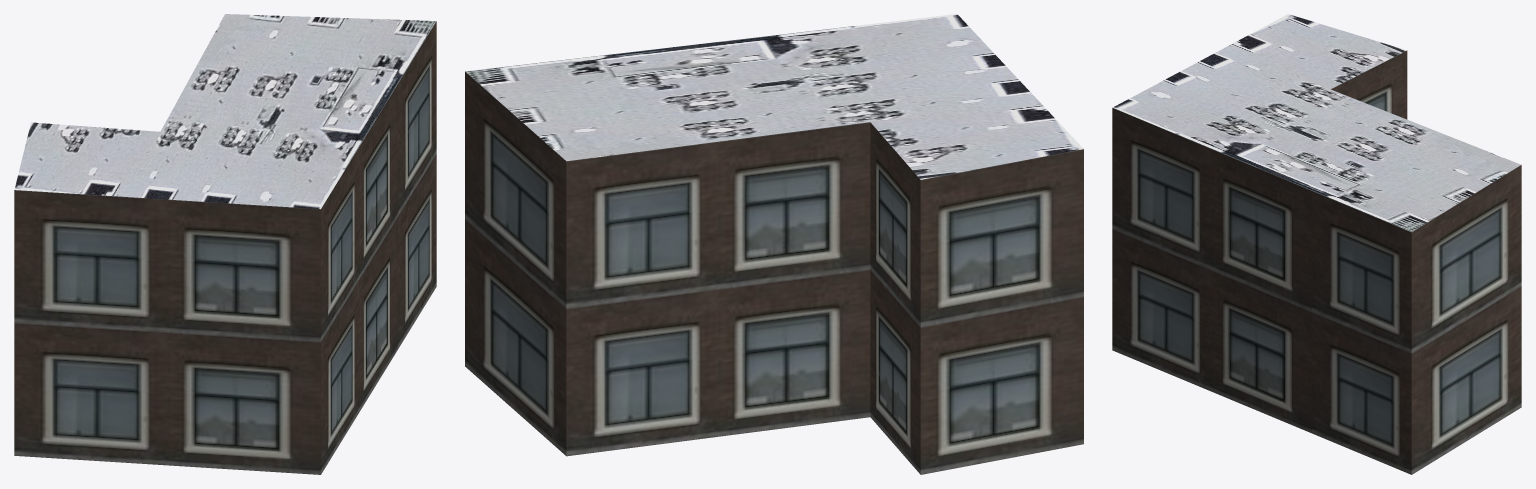
File: ResTex__476.fbx
3 renders of one model, left to right at view 1: azimuth 30°, elevation 25°; view 2: azimuth 150°, elevation 25°; view 3: azimuth 270°, elevation 25°, orthographic. The views are drawn at different scales.
Parts seen in each view (by area): view 1: CityEngineMaterial_16_m, CityEngineMaterial_15_m; view 2: CityEngineMaterial_16_m, CityEngineMaterial_15_m; view 3: CityEngineMaterial_16_m, CityEngineMaterial_15_m.
Part boxes in pixels (x1,y1,x2,y2): CityEngineMaterial_16_m: (14,21,436,474); CityEngineMaterial_15_m: (14,14,436,209); CityEngineMaterial_16_m: (465,71,1083,474); CityEngineMaterial_15_m: (465,14,1083,179); CityEngineMaterial_16_m: (1112,50,1521,474); CityEngineMaterial_15_m: (1113,14,1520,231).
Bounding box in the file's own units: 11.57 × 6 × 9.16.
Materials: 2 (2 with a texture image).
